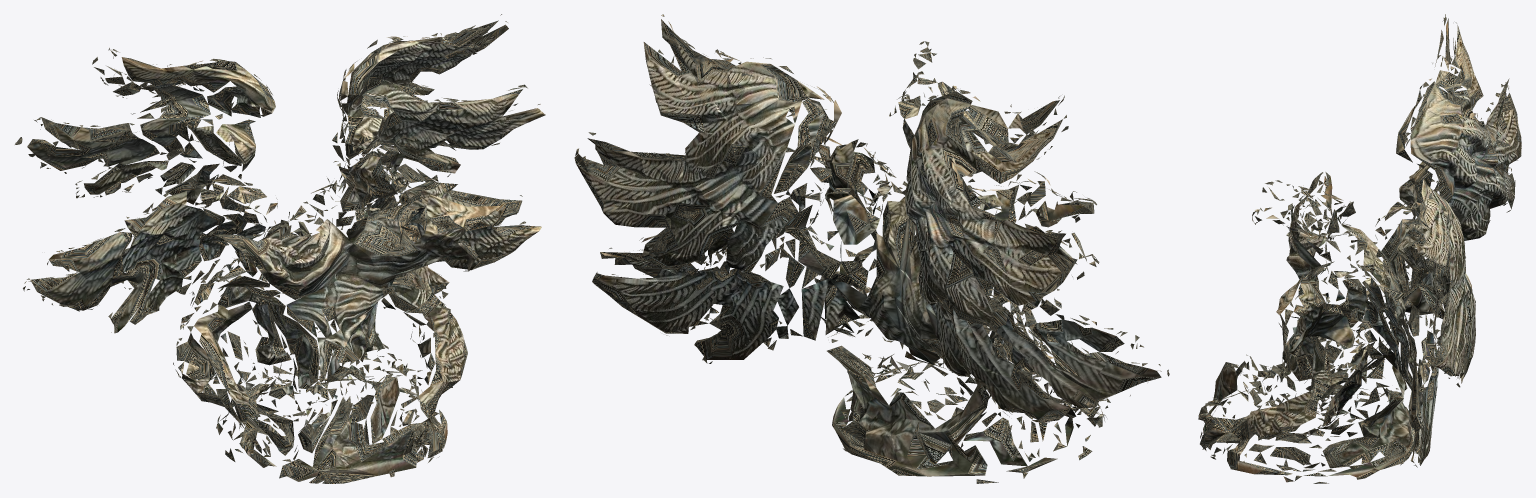
Rendered from aill_n_trenchend.glb.
3 views of the same model, side by side, from view 1: azimuth 30°, elevation 25°; view 2: azimuth 150°, elevation 25°; view 3: azimuth 270°, elevation 25° (orthographic). The views are drawn at different scales.
Parts seen in each view (by area): view 1: geometry_0; view 2: geometry_0; view 3: geometry_0.
Boxes of the visible parts, bbox=[...] form: geometry_0: bbox=[15, 14, 545, 483]; geometry_0: bbox=[574, 14, 1169, 483]; geometry_0: bbox=[1198, 14, 1521, 483].
Size of the model in its own units: 0.0549 by 0.038 by 0.0315.
Materials: 1 (1 with a texture image).
